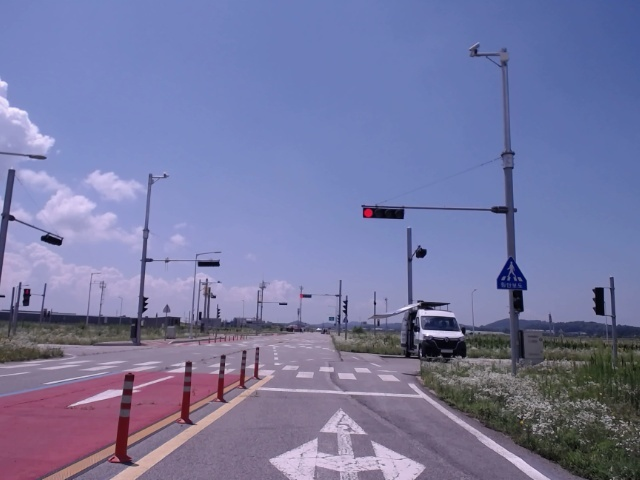red_4: (362, 208, 404, 219)
